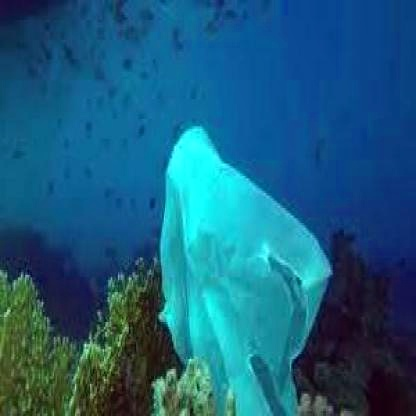pbag: (155, 124, 333, 416)
